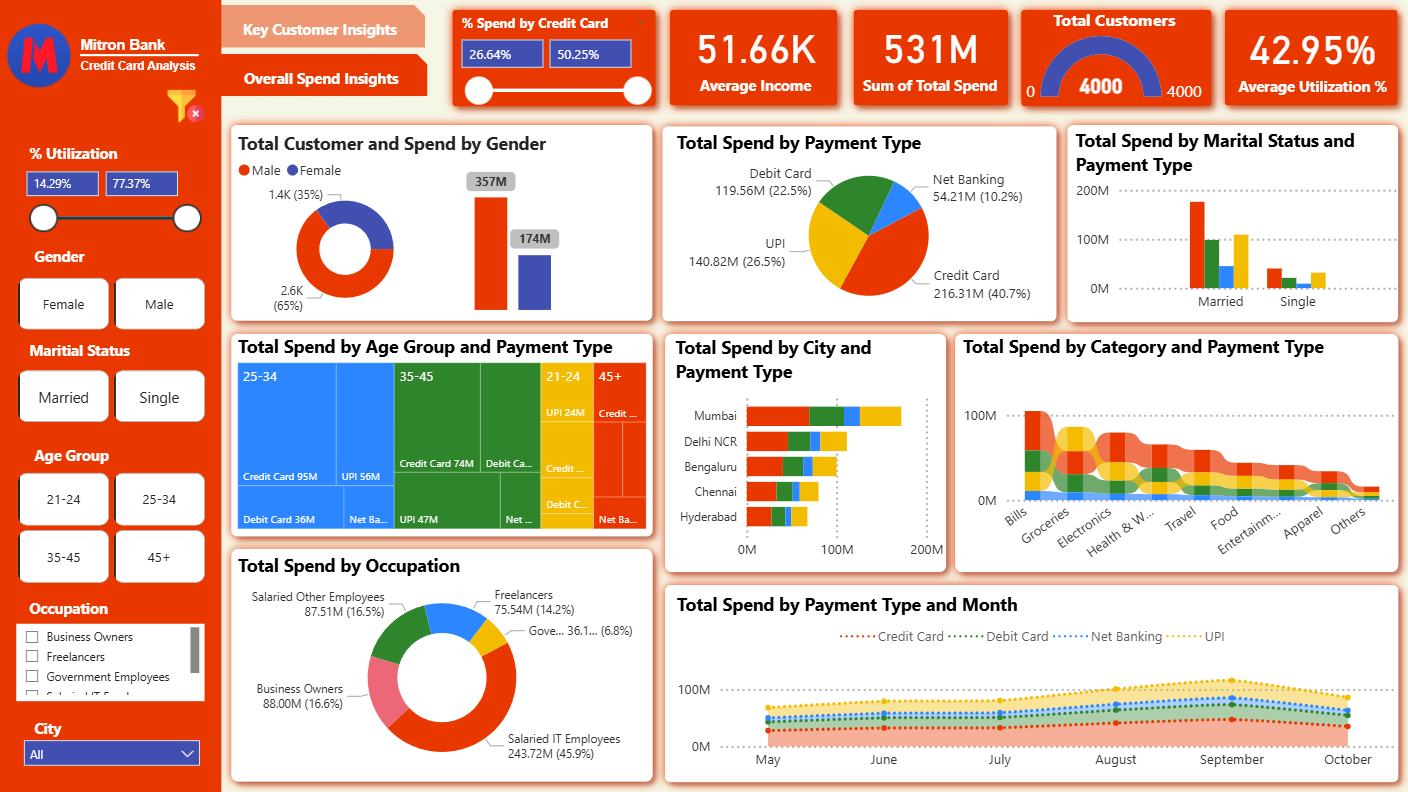

The page's visual inventory and layout, read from the dashboard file:
{"tool":"powerbi","page":{"name":"Overall Spend Insights","canvas":[1280,720],"ordinal":1},"visuals":[{"type":"group","id":"g1","title":"Shapes","box":[0,0,1280,720],"z":0},{"type":"shape","box":[0,0,201.2,720],"z":0,"group":"g1"},{"type":"shape","box":[1105,0,175,105],"z":1000,"group":"g1"},{"type":"shape","box":[72.4,7.2,108.1,86.5],"z":1000},{"type":"shape","box":[919.8,0,191.1,105.6],"z":2000,"group":"g1"},{"type":"textbox","box":[67.8,26.7,143.3,64.4],"z":2000},{"type":"shape","box":[766.7,0,158.3,105],"z":3000,"group":"g1"},{"type":"image","box":[5,20,61.2,60],"z":3000},{"type":"shape","box":[600.1,0.5,170,105],"z":4000,"group":"g1"},{"type":"actionButton","box":[200.6,4.6,186.5,38.8],"z":4000},{"type":"shape","box":[402.3,0,202.9,105.7],"z":5000,"group":"g1"},{"type":"actionButton","box":[200,48.8,188.8,38.8],"z":5000},{"type":"card","fields":{"Values":["Avg(dim_customers.% Utilization)"]},"box":[1120,5,146.2,92.5],"z":6000},{"type":"shape","box":[858.8,293.8,421.2,235],"z":6000,"group":"g1"},{"type":"card","fields":{"Values":["Avg(dim_customers.avg_income)"]},"box":[611.3,6.7,151.2,86.2],"z":7000},{"type":"shape","box":[592.7,105.5,376.4,195.5],"z":7000,"group":"g1"},{"type":"card","fields":{"Values":["Sum(dim_customers.Total Spend)"]},"box":[767.5,1.2,157.5,98.8],"z":8000},{"type":"shape","box":[961.2,105,318.8,197.5],"z":8000,"group":"g1"},{"type":"slicer","fields":{"Values":["dim_customers.% Spend by Credit Card"]},"box":[406.2,7.5,193.8,95],"z":9000},{"type":"shape","box":[595,293.8,273.8,235],"z":9000,"group":"g1"},{"type":"donutChart","title":"Total Customers by gender","fields":{"Category":["dim_customers.gender"],"Y":["CountNonNull(dim_customers.customer_id)"]},"box":[211.2,135,205,155],"z":10000},{"type":"shape","box":[595,522.5,685,197.5],"z":10000,"group":"g1"},{"type":"shape","box":[201,105,401,196],"z":11000,"group":"g1"},{"type":"clusteredColumnChart","fields":{"Category":["dim_customers.gender"],"Y":["Sum(fact_spends.spend)"]},"box":[406.2,145,121.2,142.5],"z":11000},{"type":"textbox","box":[211.2,113.8,371.2,41.2],"z":12000},{"type":"shape","box":[201.2,293.8,401.2,202.5],"z":12000,"group":"g1"},{"type":"pieChart","title":"Total Spend by Payment Type","fields":{"Category":["fact_spends.payment_type"],"Y":["Sum(fact_spends.spend)"]},"box":[610,118.6,359.4,171.1],"z":13000},{"type":"shape","box":[201.2,490,401.2,230],"z":13000,"group":"g1"},{"type":"ribbonChart","title":"Total Spend by Category and Payment Type","fields":{"Category":["fact_spends.category"],"Y":["Sum(fact_spends.spend)"],"Series":["fact_spends.payment_type"]},"box":[870,303.8,405,212.5],"z":14000},{"type":"treemap","title":"Total Spend by Age Group and Payment Type","fields":{"Group":["dim_customers.age_group"],"Details":["fact_spends.payment_type"],"Values":["Sum(fact_spends.spend)"]},"box":[211.2,303.8,381.2,182.5],"z":15000},{"type":"lineClusteredColumnComboChart","title":"Total Spend by Marital Status and Payment Type","fields":{"Category":["dim_customers.marital status"],"Y":["Sum(fact_spends.spend)"],"Series":["fact_spends.payment_type"]},"box":[972.5,116.2,303.8,176.2],"z":16000},{"type":"stackedAreaChart","title":"Total Spend by Payment Type and Month","fields":{"Category":["Month.Month_Name"],"Y":["Sum(fact_spends.spend)"],"Series":["fact_spends.payment_type"]},"box":[610,537.5,662.5,171.2],"z":17000},{"type":"barChart","title":"Total Spend by City and Payment Type","fields":{"Category":["dim_customers.city"],"Y":["Sum(fact_spends.spend)"],"Series":["fact_spends.payment_type"]},"box":[608.6,304.3,254.3,212.9],"z":18000},{"type":"donutChart","fields":{"Y":["Sum(fact_spends.spend)"],"Category":["dim_customers.occupation"]},"box":[211.2,502.5,381.2,206.2],"z":19000},{"type":"image","box":[152.5,80,33.8,33.8],"z":20000},{"type":"advancedSlicerVisual","fields":{"Values":["dim_customers.gender"]},"box":[11.2,247.5,180,57.5],"z":21000},{"type":"advancedSlicerVisual","fields":{"Values":["dim_customers.marital status"]},"box":[11.2,331.2,180,57.5],"z":22000},{"type":"advancedSlicerVisual","fields":{"Values":["dim_customers.age_group"]},"box":[11.2,425,180,111.2],"z":23000},{"type":"slicer","title":"Occupation","fields":{"Values":["dim_customers.occupation"]},"box":[15,567.5,171.2,70],"z":24000},{"type":"slicer","title":"% Utilization","fields":{"Values":["dim_customers.% Utilization"]},"box":[11.2,145,180,87.5],"z":25000},{"type":"slicer","title":"City","fields":{"Values":["dim_customers.city"]},"box":[11.2,662.5,180,41.2],"z":26000},{"type":"textbox","box":[26.2,647.5,160,30],"z":27000},{"type":"textbox","box":[21.2,125,160,30],"z":28000},{"type":"textbox","box":[26.2,218.8,160,30],"z":29000},{"type":"textbox","box":[21.2,305,160,30],"z":30000},{"type":"textbox","box":[26.2,400,160,30],"z":31000},{"type":"textbox","box":[21.2,538.8,160,30],"z":32000},{"type":"gauge","fields":{"Y":["CountNonNull(dim_customers.customer_id)"]},"box":[920,7.5,185,90],"z":33000}]}

Visuals, with their boxes in screenshot pixels (x1, y1, x2, y2), scaled from the page's 1280x720 canvas onto the 1408x792 screenshot:
"Shapes" group: bbox=[0, 0, 1407, 791]
shape: bbox=[0, 0, 221, 791]
shape: bbox=[1216, 0, 1407, 116]
shape: bbox=[80, 8, 199, 103]
shape: bbox=[1012, 0, 1222, 116]
textbox: bbox=[75, 29, 232, 100]
shape: bbox=[843, 0, 1018, 116]
image: bbox=[6, 22, 73, 88]
shape: bbox=[660, 1, 847, 116]
actionButton: bbox=[221, 5, 426, 48]
shape: bbox=[443, 0, 666, 116]
actionButton: bbox=[220, 54, 428, 96]
card - Avg(dim_customers.% Utilization): bbox=[1232, 6, 1393, 107]
shape: bbox=[945, 323, 1407, 582]
card - Avg(dim_customers.avg_income): bbox=[672, 7, 839, 102]
shape: bbox=[652, 116, 1066, 331]
card - Sum(dim_customers.Total Spend): bbox=[844, 1, 1018, 110]
shape: bbox=[1057, 116, 1407, 333]
slicer - dim_customers.% Spend by Credit Card: bbox=[447, 8, 660, 113]
shape: bbox=[654, 323, 956, 582]
"Total Customers by gender" donutChart: bbox=[232, 148, 458, 319]
shape: bbox=[654, 575, 1407, 791]
shape: bbox=[221, 116, 662, 331]
clusteredColumnChart - dim_customers.gender x Sum(fact_spends.spend): bbox=[447, 160, 580, 316]
textbox: bbox=[232, 125, 641, 170]
shape: bbox=[221, 323, 663, 546]
"Total Spend by Payment Type" pieChart: bbox=[671, 130, 1066, 319]
shape: bbox=[221, 539, 663, 791]
"Total Spend by Category and Payment Type" ribbonChart: bbox=[957, 334, 1402, 568]
"Total Spend by Age Group and Payment Type" treemap: bbox=[232, 334, 652, 535]
"Total Spend by Marital Status and Payment Type" lineClusteredColumnComboChart: bbox=[1070, 128, 1404, 322]
"Total Spend by Payment Type and Month" stackedAreaChart: bbox=[671, 591, 1400, 780]
"Total Spend by City and Payment Type" barChart: bbox=[669, 335, 949, 569]
donutChart - Sum(fact_spends.spend) x dim_customers.occupation: bbox=[232, 553, 652, 780]
image: bbox=[168, 88, 205, 125]
advancedSlicerVisual - dim_customers.gender: bbox=[12, 272, 210, 336]
advancedSlicerVisual - dim_customers.marital status: bbox=[12, 364, 210, 428]
advancedSlicerVisual - dim_customers.age_group: bbox=[12, 468, 210, 590]
"Occupation" slicer: bbox=[16, 624, 205, 701]
"% Utilization" slicer: bbox=[12, 160, 210, 256]
"City" slicer: bbox=[12, 729, 210, 774]
textbox: bbox=[29, 712, 205, 745]
textbox: bbox=[23, 138, 199, 170]
textbox: bbox=[29, 241, 205, 274]
textbox: bbox=[23, 336, 199, 369]
textbox: bbox=[29, 440, 205, 473]
textbox: bbox=[23, 593, 199, 626]
gauge - CountNonNull(dim_customers.customer_id): bbox=[1012, 8, 1216, 107]
